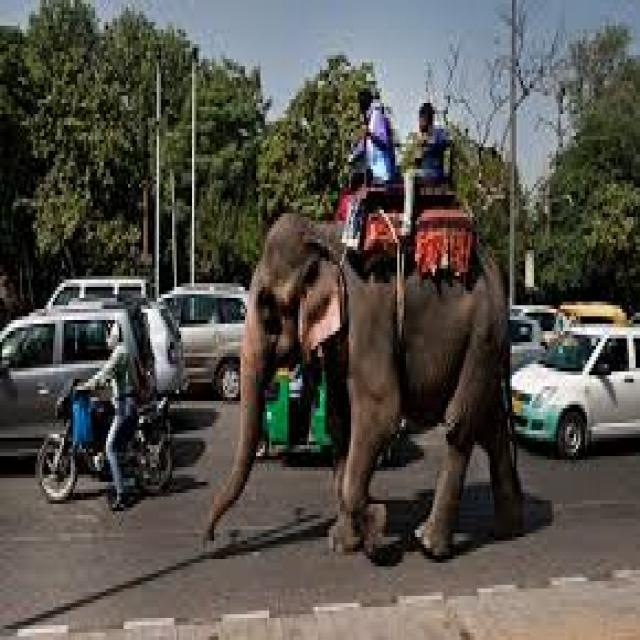Elephant: (200, 194, 541, 586)
